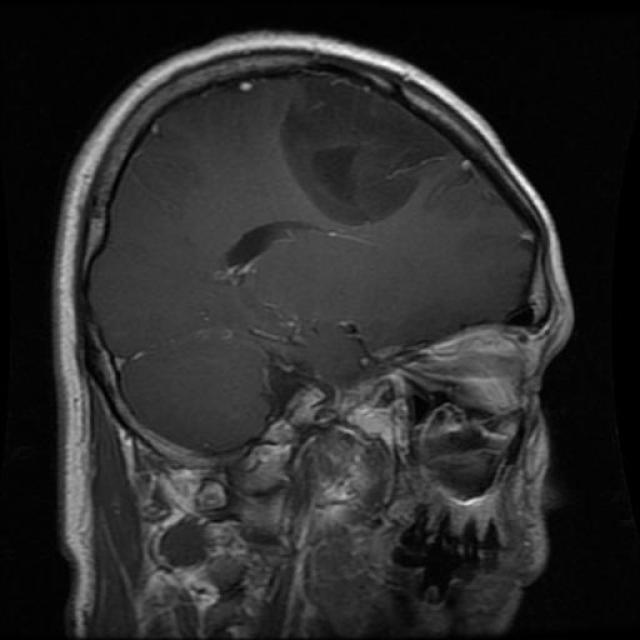glioma: (283, 71, 452, 224)
